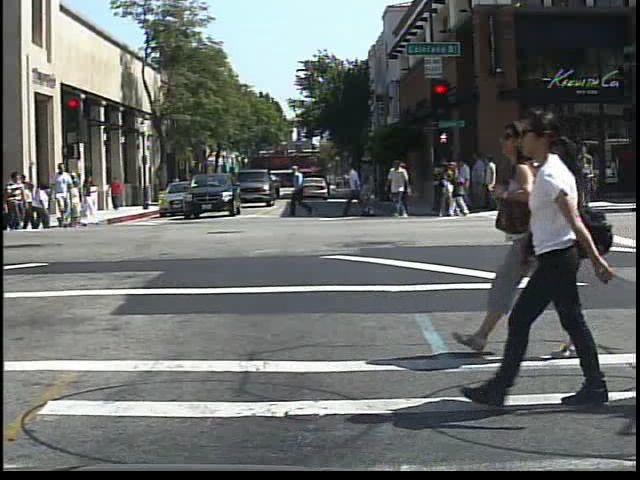person: (505, 101, 603, 414), (460, 112, 541, 353), (517, 143, 548, 211), (49, 162, 77, 230), (7, 165, 30, 233), (108, 175, 127, 212), (169, 170, 186, 201)
